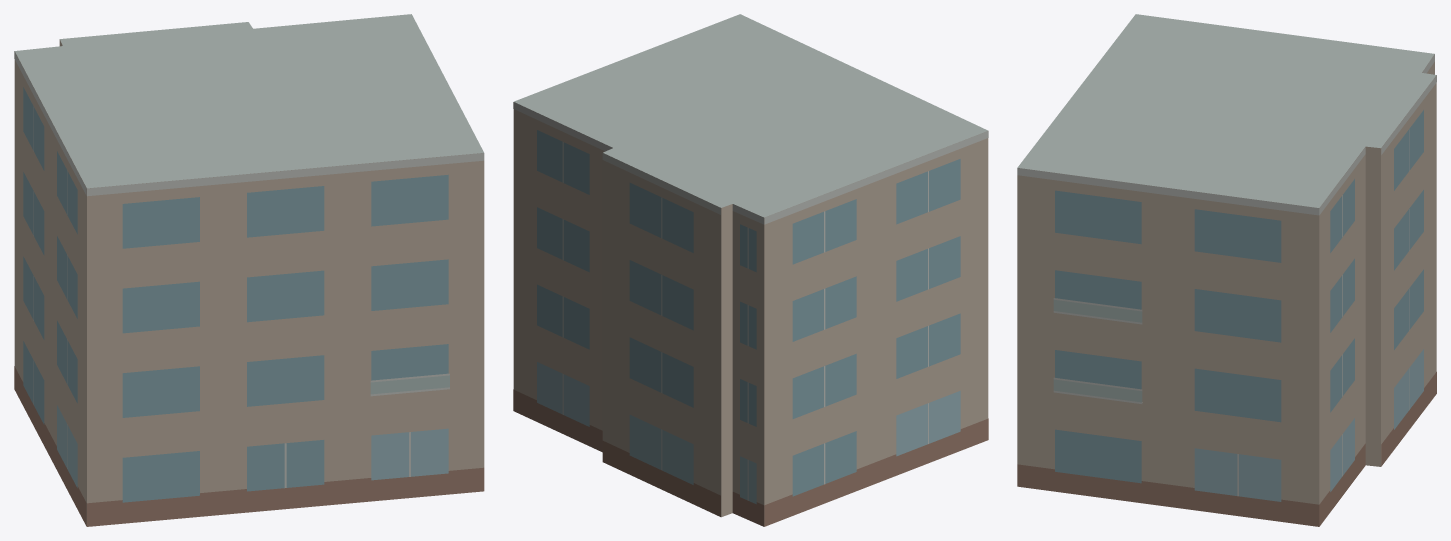
File: survey-upis-32869369.glb
3 renders of one model, left to right at view 1: azimuth 30°, elevation 25°; view 2: azimuth 150°, elevation 25°; view 3: azimuth 270°, elevation 25°, orthographic. The views are drawn at different scales.
Parts seen in each view (by area): view 1: survey-upis-32869369.tmp; view 2: survey-upis-32869369.tmp; view 3: survey-upis-32869369.tmp.
Part boxes in pixels (x1,y1,x2,y2): survey-upis-32869369.tmp: [14, 14, 484, 526]; survey-upis-32869369.tmp: [513, 14, 988, 526]; survey-upis-32869369.tmp: [1017, 14, 1436, 526].
Bounding box in the file's own units: 13.72 × 10.5 × 12.53.
